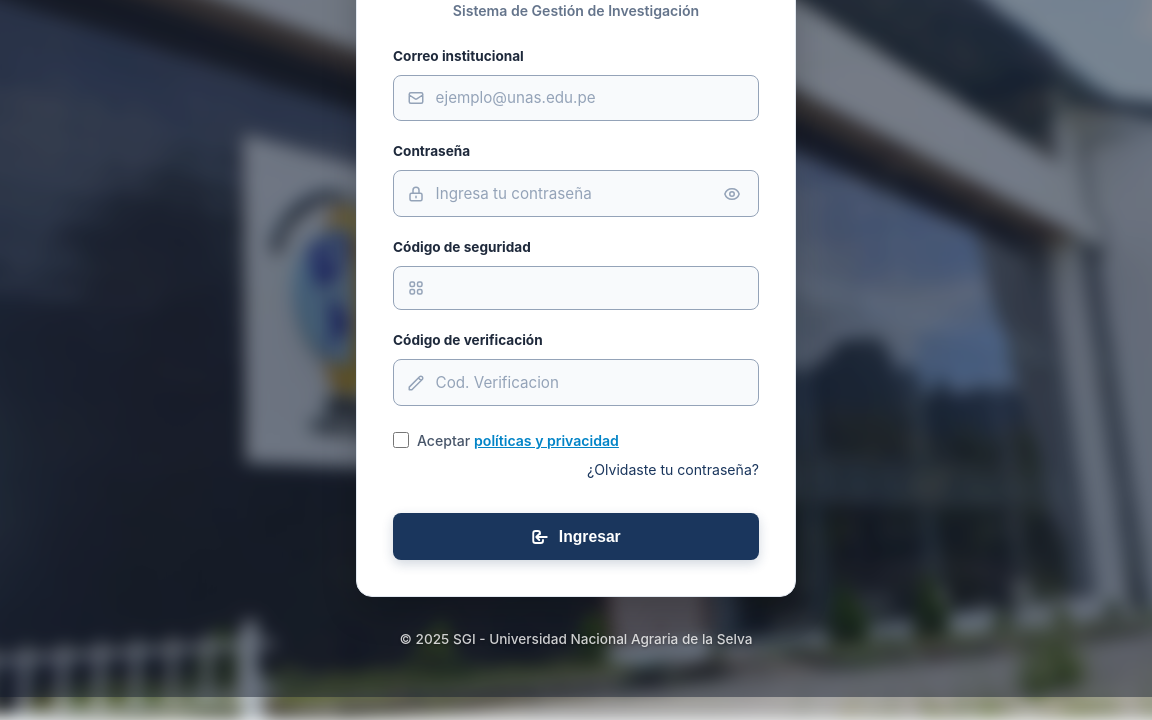
Test: LoginPage › muestra alerta de validacion con campos vacios
(page scrolled)
Step 1. Click the button "Ingresar" → [576, 537], box x1=393 y1=513 x2=759 y2=560
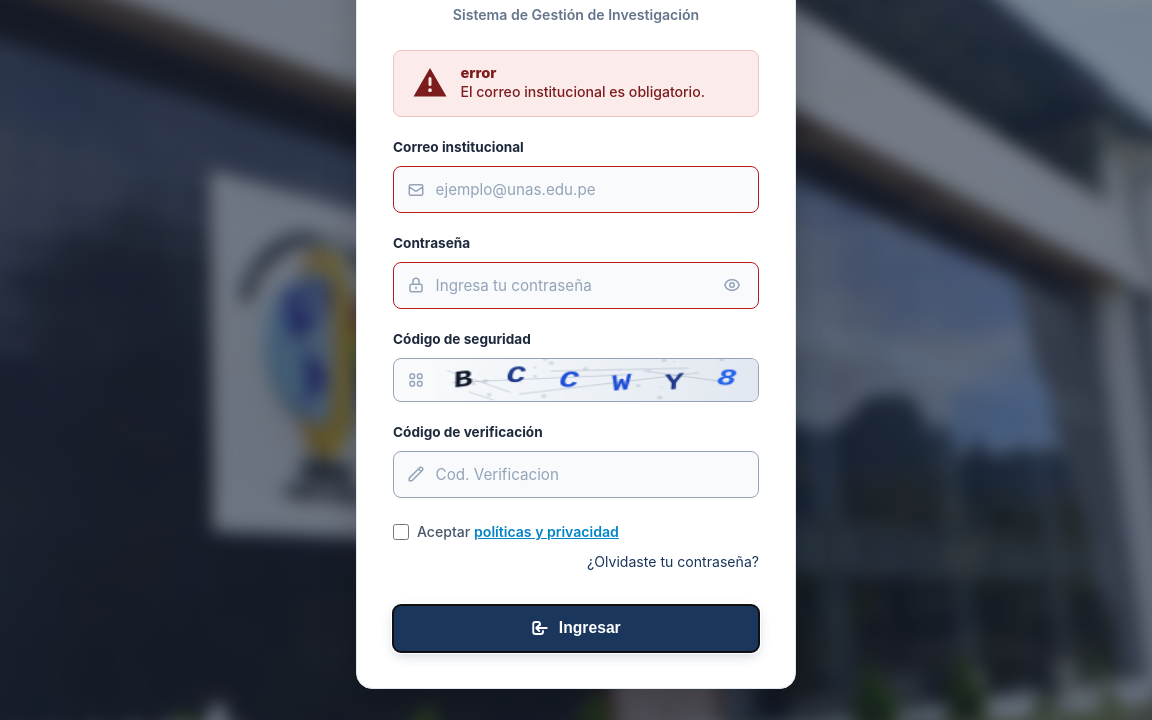
Check: the message "error El correo institucional es obligatorio." is shown, box x1=393 y1=50 x2=759 y2=117
